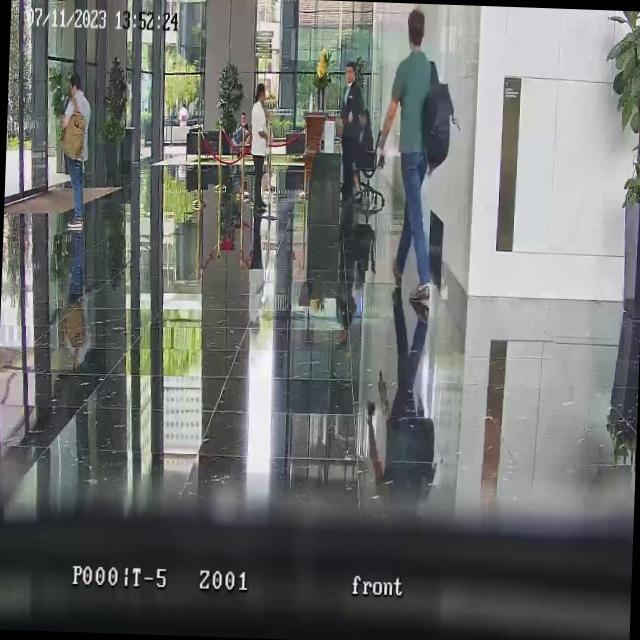person: (372, 8, 442, 304), (56, 72, 92, 227), (336, 60, 367, 204), (248, 82, 272, 212), (352, 108, 374, 202), (228, 112, 251, 144), (178, 103, 190, 126)
